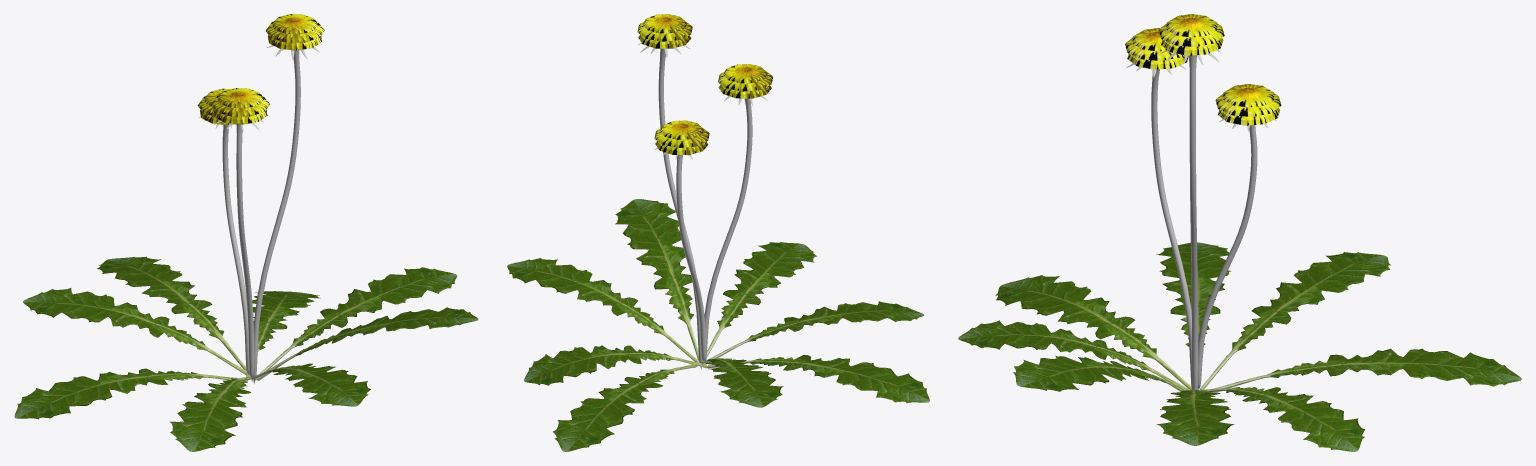
The model's file is dandelionYellow.fbx.
3 renders of one model, left to right at view 1: azimuth 30°, elevation 25°; view 2: azimuth 150°, elevation 25°; view 3: azimuth 270°, elevation 25°, orthographic. The views are drawn at different scales.
Parts seen in each view (by area): view 1: pPlane13, pPlane12, pPlane14, pPlane10, pPlane17, pPlane11, pPlane16, pSphere5, pPlane15, pSphere4, pSphere6, pCylinder1 (+3 smaller); view 2: pPlane16, pPlane10, pPlane12, pPlane13, pPlane11, pPlane15, pPlane17, pPlane14, pSphere4, pSphere5, pSphere6, pCylinder5 (+5 smaller); view 3: pPlane10, pPlane17, pPlane14, pPlane15, pPlane11, pPlane16, pPlane12, pPlane13, pSphere5, pSphere4, pSphere6, pCylinder5 (+6 smaller).
Boxes of the visible parts, x1,y1,x2,y2 form: pPlane13: [14, 368, 247, 419]; pPlane12: [259, 267, 457, 373]; pPlane14: [23, 288, 247, 375]; pPlane10: [97, 256, 246, 370]; pPlane17: [170, 375, 251, 451]; pPlane11: [255, 363, 370, 406]; pPlane16: [257, 307, 478, 380]; pSphere5: [253, 44, 319, 384]; pPlane15: [246, 291, 320, 381]; pSphere4: [213, 117, 264, 381]; pSphere6: [199, 116, 249, 375]; pCylinder1: [217, 88, 263, 108]; pPlane16: [615, 199, 698, 360]; pPlane10: [553, 363, 697, 451]; pPlane12: [507, 258, 698, 362]; pPlane13: [707, 355, 929, 402]; pPlane11: [706, 242, 816, 357]; pPlane15: [524, 345, 707, 385]; pPlane17: [707, 301, 924, 362]; pPlane14: [701, 358, 783, 407]; pSphere4: [704, 91, 769, 359]; pSphere5: [638, 43, 702, 369]; pSphere6: [654, 147, 707, 360]; pCylinder5: [659, 120, 704, 139]; pPlane10: [1212, 348, 1521, 392]; pPlane17: [995, 275, 1191, 389]; pPlane14: [1200, 252, 1390, 389]; pPlane15: [1199, 387, 1365, 451]; pPlane11: [958, 320, 1190, 390]; pPlane16: [1013, 355, 1185, 391]; pPlane12: [1156, 390, 1234, 445]; pPlane13: [1156, 242, 1231, 346]; pSphere5: [1160, 49, 1221, 389]; pSphere4: [1126, 61, 1192, 389]; pSphere6: [1197, 113, 1279, 389]; pCylinder5: [1223, 84, 1274, 107].
Bounding box in the file's own units: 3.3 × 2.55 × 3.22.
